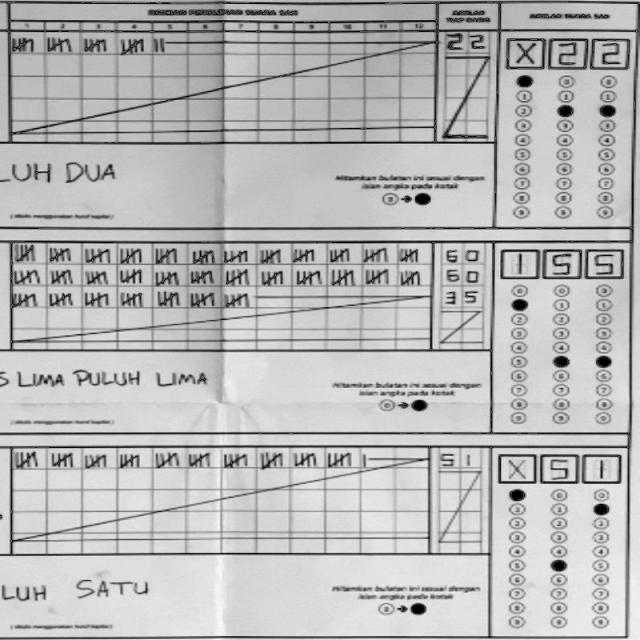Suara: (491, 443, 625, 485), (499, 30, 631, 71), (496, 243, 626, 281)
